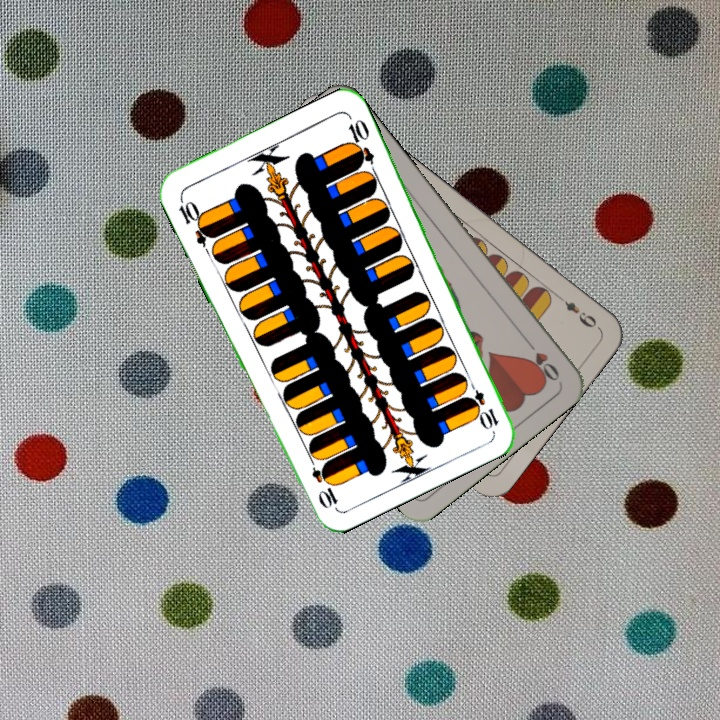E10: (174, 193, 215, 249), (462, 375, 501, 432)
E9: (553, 290, 602, 332)
HO: (520, 334, 562, 384)
